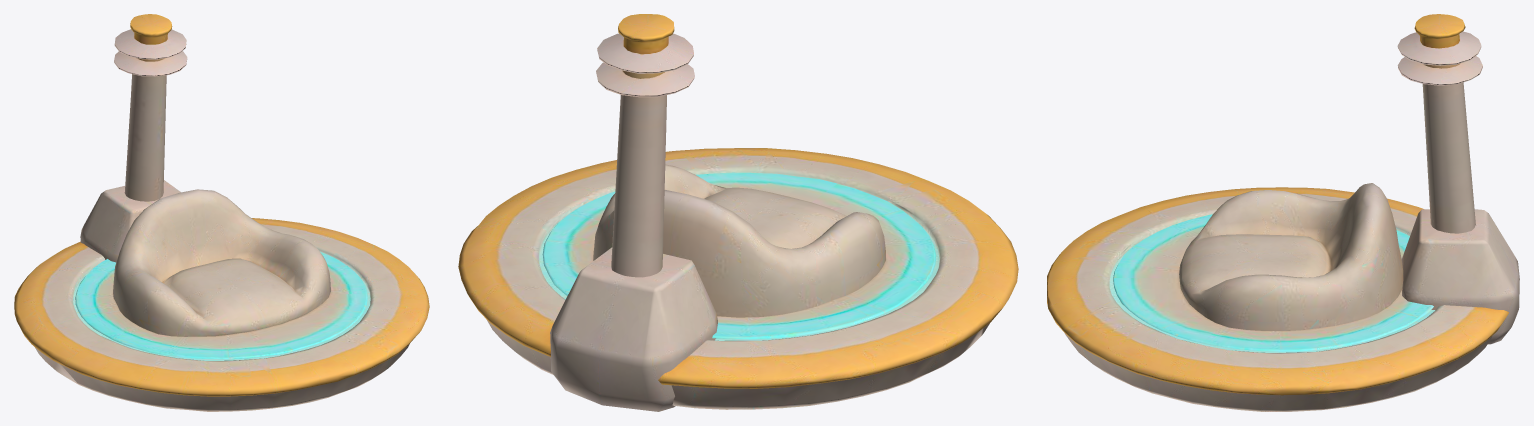
The model's file is charger.glb.
3 renders of one model, left to right at view 1: azimuth 30°, elevation 25°; view 2: azimuth 150°, elevation 25°; view 3: azimuth 270°, elevation 25°, orthographic. The views are drawn at different scales.
Visible parts, largest first — view 1: charger; view 2: charger; view 3: charger.
Part boxes in pixels (left/top/right/bottom): charger: left=14, top=14, right=429, bottom=411; charger: left=458, top=14, right=1018, bottom=411; charger: left=1047, top=14, right=1519, bottom=411.
Bounding box in the file's own units: 1.5 × 1.05 × 1.5.
Materials: 1 (1 with a texture image).
